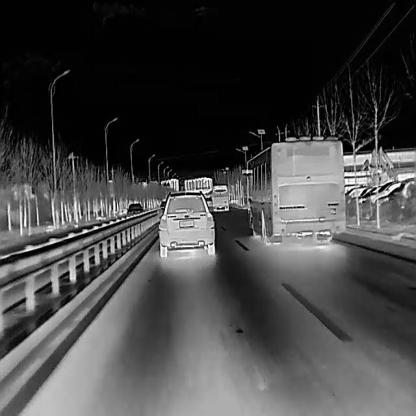bus: (241, 133, 345, 245), (211, 182, 228, 210)
car: (158, 188, 214, 258), (126, 202, 144, 223)
